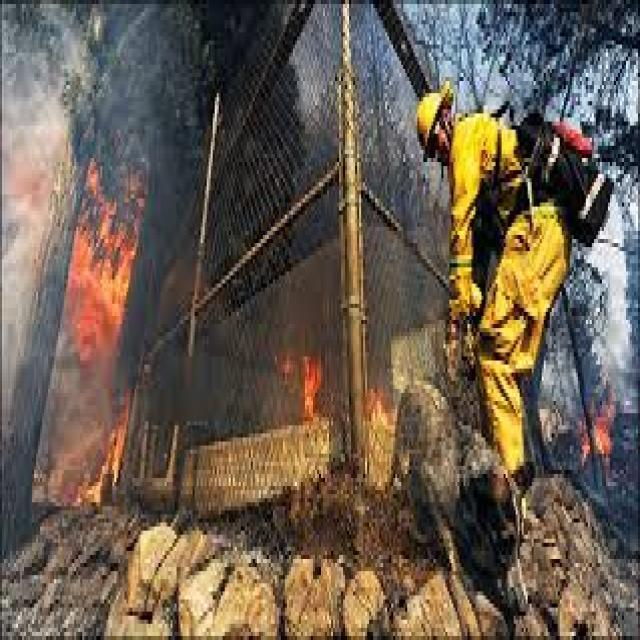Fire: (62, 160, 140, 506), (578, 403, 615, 466), (302, 348, 324, 418), (366, 384, 396, 429)
Smoke: (0, 4, 62, 424)
